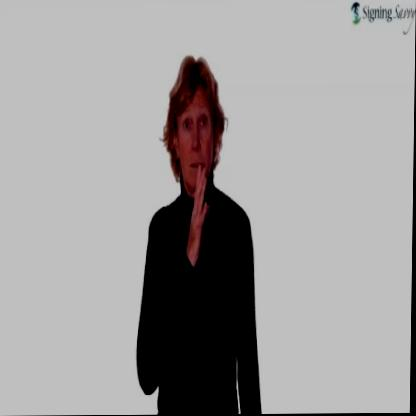Talk: (162, 51, 229, 289)
